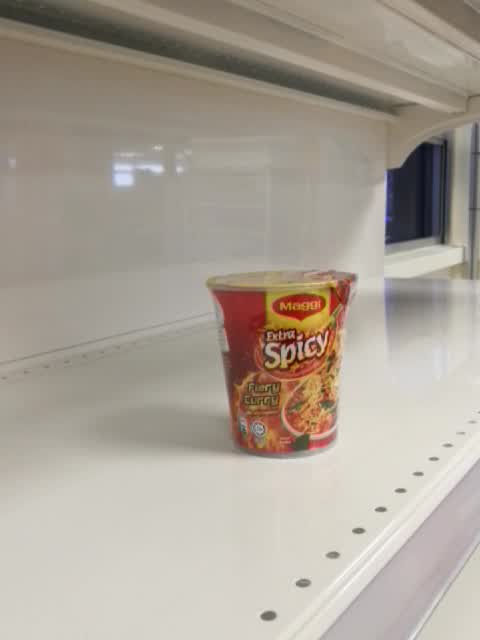maggi: (206, 269, 356, 459)
